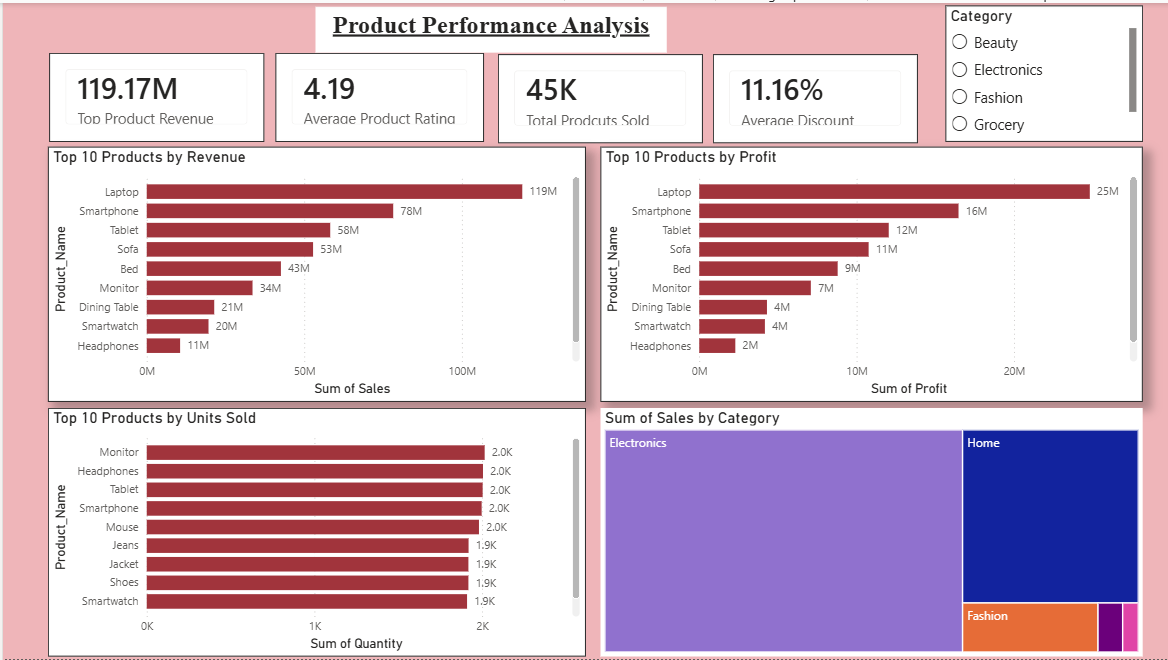

This screenshot's page, from the dashboard's own definition file:
{"tool":"powerbi","page":{"name":"Product Performance Analysis","canvas":[1280,720],"ordinal":1},"visuals":[{"type":"cardVisual","fields":{"Data":["retail_sales_15000.Top Product Revenue"]},"box":[50.8,54.9,236,97.4],"z":0},{"type":"cardVisual","fields":{"Data":["retail_sales_15000.Average Product Rating"]},"box":[299.1,54.9,229.2,97.4],"z":1000},{"type":"cardVisual","fields":{"Data":["retail_sales_15000.Total Prodcuts Sold"]},"box":[543.4,56.3,225,97.4],"z":2000},{"type":"cardVisual","fields":{"Data":["retail_sales_15000.Average Discount1"]},"box":[779.4,56.3,225,97.4],"z":3000},{"type":"clusteredBarChart","title":"Top 10 Products by Revenue","fields":{"Category":["retail_sales_15000.Product_Name"],"Y":["Sum(retail_sales_15000.Sales)"]},"box":[49.4,157.8,590.1,279.9],"z":4000},{"type":"clusteredBarChart","title":"Top 10 Products by Profit","fields":{"Category":["retail_sales_15000.Product_Name"],"Y":["Sum(retail_sales_15000.Profit)"]},"box":[655.9,157.8,595.5,279.9],"z":5000},{"type":"clusteredBarChart","title":"Top 10 Products by Units Sold","fields":{"Category":["retail_sales_15000.Product_Name"],"Y":["Sum(retail_sales_15000.Quantity)"]},"box":[49.4,444.6,590.1,273.1],"z":6000},{"type":"treemap","fields":{"Values":["Sum(retail_sales_15000.Sales)"],"Group":["retail_sales_15000.Category"]},"box":[655.9,444.6,595.5,273.1],"z":7000},{"type":"listSlicer","fields":{"Values":["retail_sales_15000.Category"]},"box":[1034.7,2.7,216.8,149.6],"z":8000},{"type":"textbox","box":[343.1,4.1,385.6,50.8],"z":9000}]}

Visuals, with their boxes in screenshot pixels (x1, y1, x2, y2), scaled from the page's 1280x720 canvas onto the 1168x660 screenshot:
cardVisual - retail_sales_15000.Top Product Revenue: box(46, 50, 262, 140)
cardVisual - retail_sales_15000.Average Product Rating: box(273, 50, 482, 140)
cardVisual - retail_sales_15000.Total Prodcuts Sold: box(496, 52, 701, 141)
cardVisual - retail_sales_15000.Average Discount1: box(711, 52, 917, 141)
"Top 10 Products by Revenue" clusteredBarChart: box(45, 145, 584, 401)
"Top 10 Products by Profit" clusteredBarChart: box(599, 145, 1142, 401)
"Top 10 Products by Units Sold" clusteredBarChart: box(45, 408, 584, 658)
treemap - Sum(retail_sales_15000.Sales) x retail_sales_15000.Category: box(599, 408, 1142, 658)
listSlicer - retail_sales_15000.Category: box(944, 2, 1142, 140)
textbox: box(313, 4, 665, 50)
